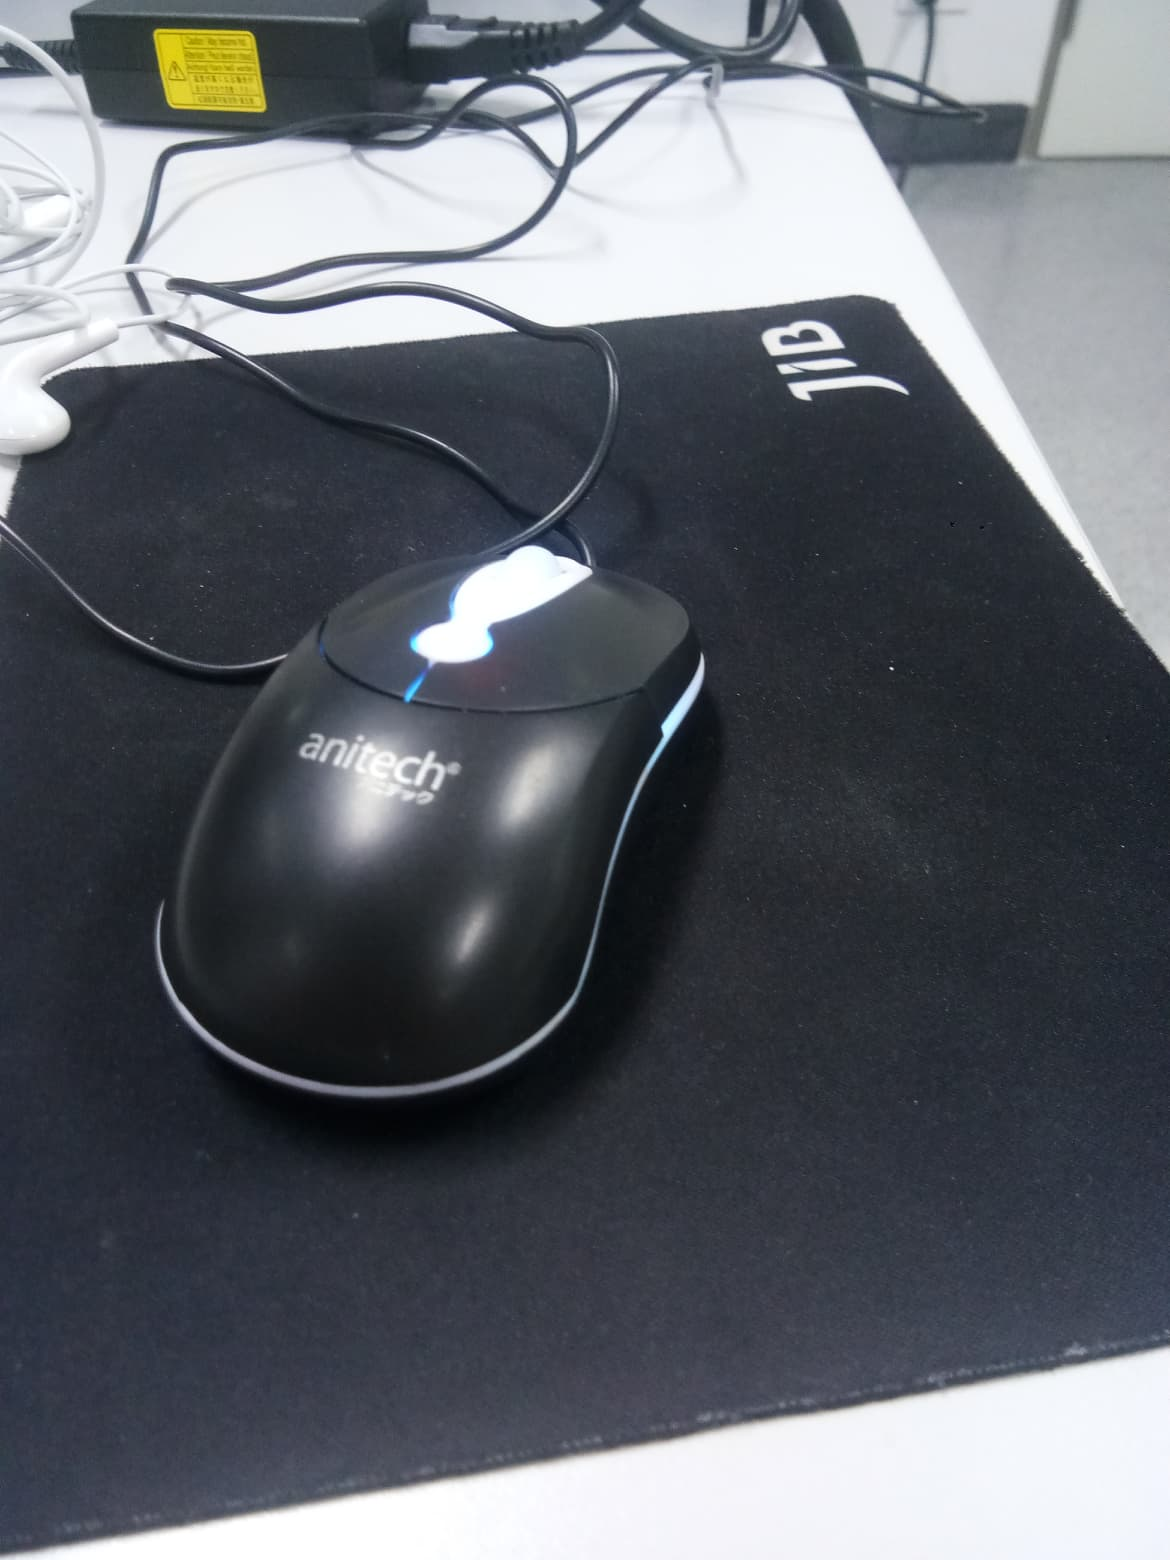mouse: (150, 502, 702, 1117)
